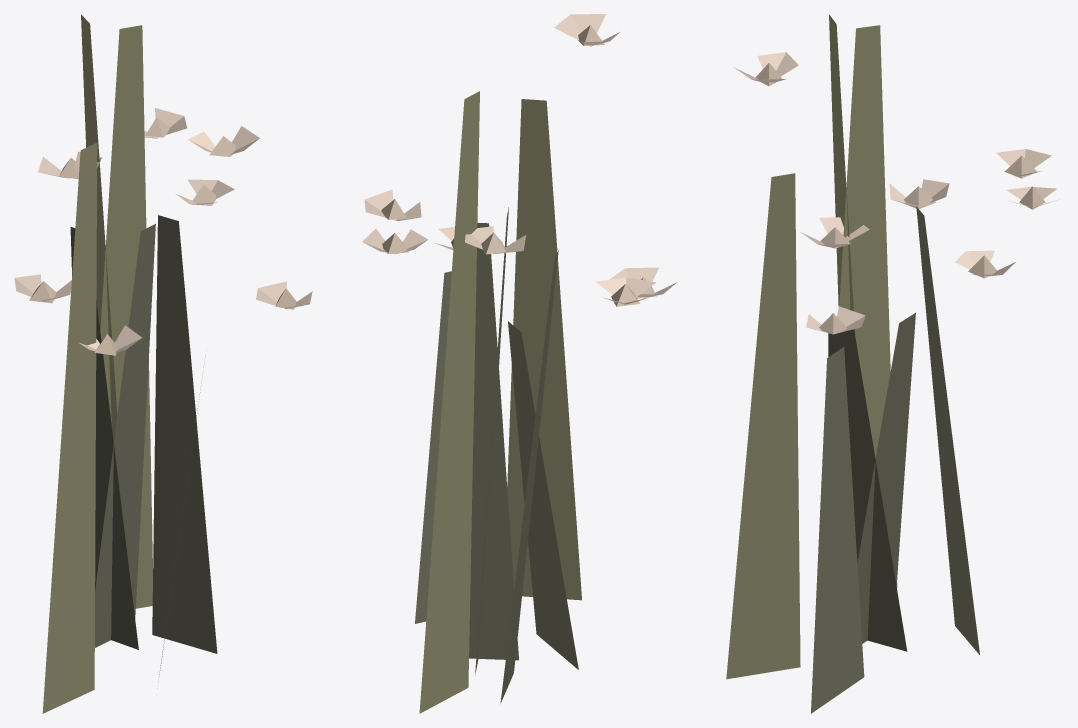
Rendered from nong.su@flowering__winter.glb.
3 views of the same model, side by side, from view 1: azimuth 30°, elevation 25°; view 2: azimuth 150°, elevation 25°; view 3: azimuth 270°, elevation 25° (orthographic). The views are drawn at different scales.
Visible parts, largest first — view 1: nong.su@flowering__winter; view 2: nong.su@flowering__winter; view 3: nong.su@flowering__winter.
Boxes of the visible parts, box(x1,y1,x2,y2) form: nong.su@flowering__winter: box(14, 14, 312, 713); nong.su@flowering__winter: box(362, 14, 677, 713); nong.su@flowering__winter: box(726, 14, 1056, 713).
Size of the model in its own units: 0.4721 by 0.9887 by 0.4925.
